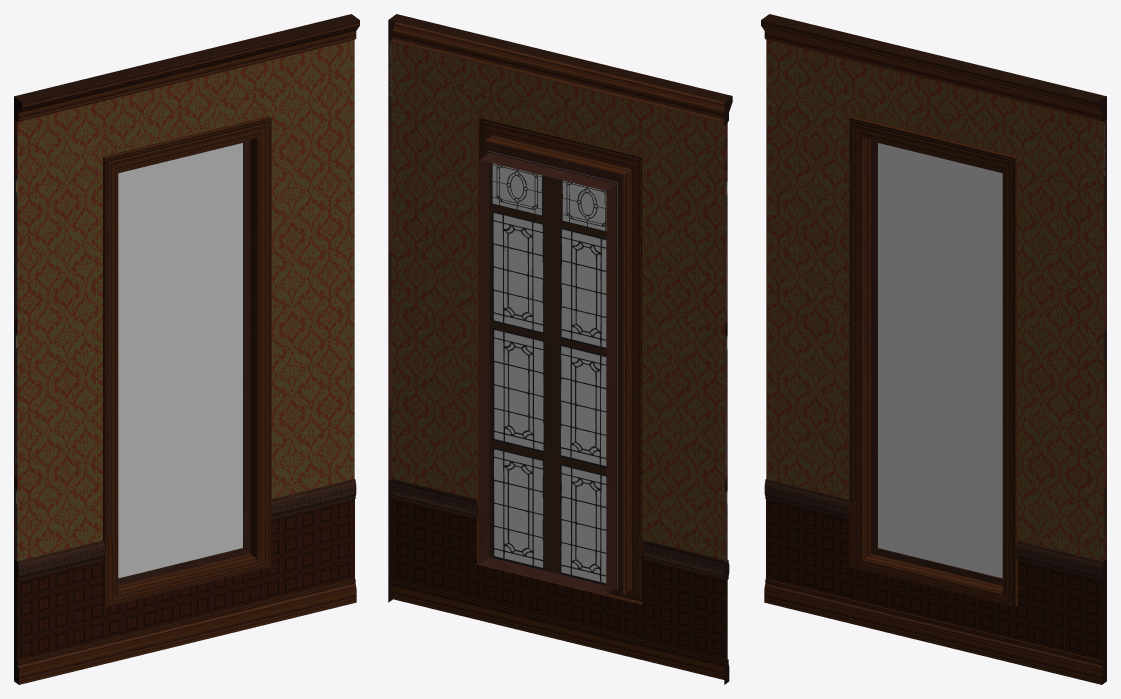
Rendered from Wall_DinningRoom_Window.fbx.
3 views of the same model, side by side, from view 1: azimuth 30°, elevation 25°; view 2: azimuth 150°, elevation 25°; view 3: azimuth 330°, elevation 25° (orthographic).
Parts seen in each view (by area): view 1: WallSectionDiningRoom_Med; view 2: WallSectionDiningRoom_Med; view 3: WallSectionDiningRoom_Med.
Boxes of the visible parts, x1,y1,x2,y2 form: WallSectionDiningRoom_Med: (14,14,359,684); WallSectionDiningRoom_Med: (388,14,732,684); WallSectionDiningRoom_Med: (761,14,1106,684).
Size of the model in its own units: 369 by 611 by 41.47.
